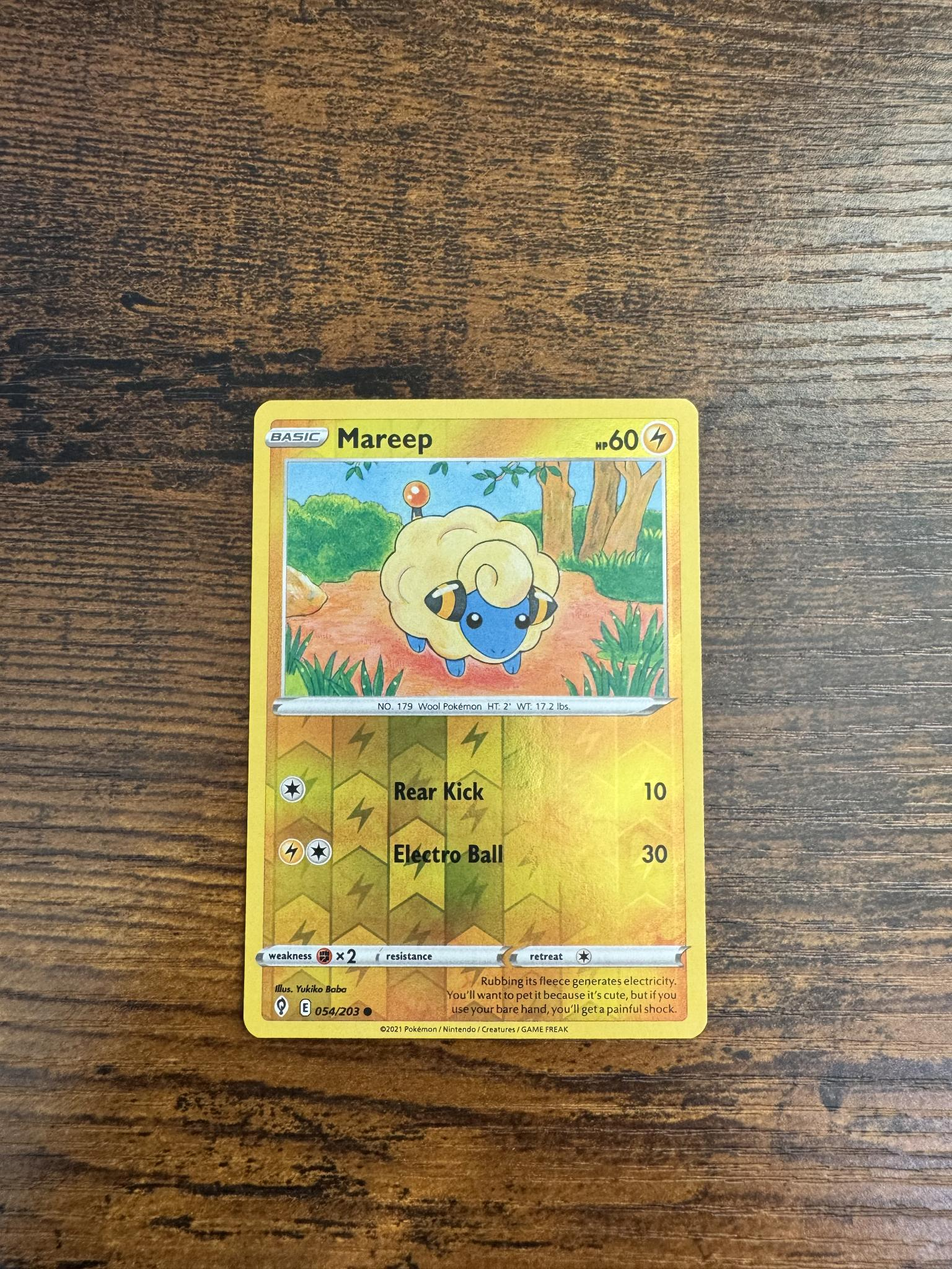card-2UtV: (243, 398, 707, 1039)
